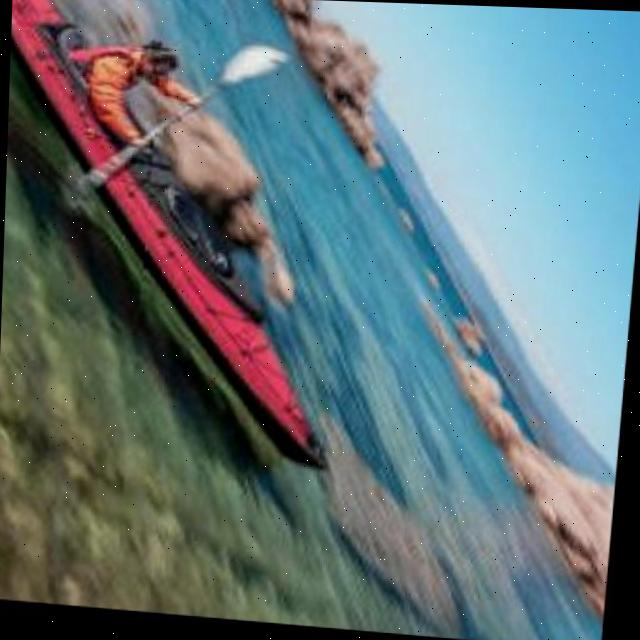kayak: (9, 0, 332, 471)
